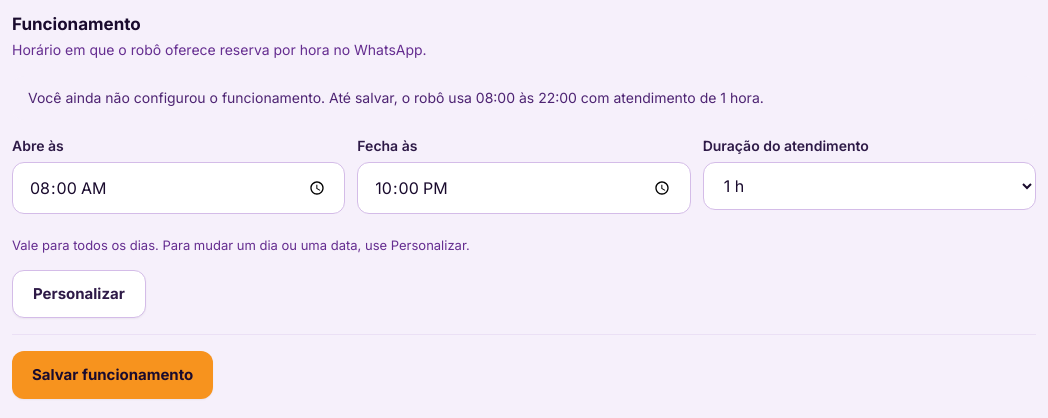
FuncionamentoComponent › com a sessao da empresa › salvar no modo simples faz PUT com o mesmo horario nos 7 dias e no feriado
Replace the text in the time field with id "func-abre" with "09:00" at (179, 188), box x1=12 y1=162 x2=345 y2=214
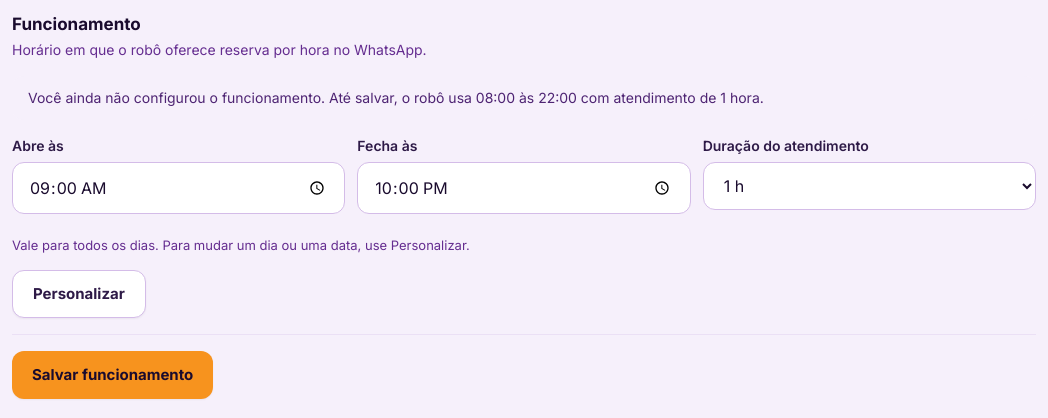
Replace the text in the time field with id "func-fecha" with "21:30" at (524, 188), box x1=357 y1=162 x2=691 y2=214
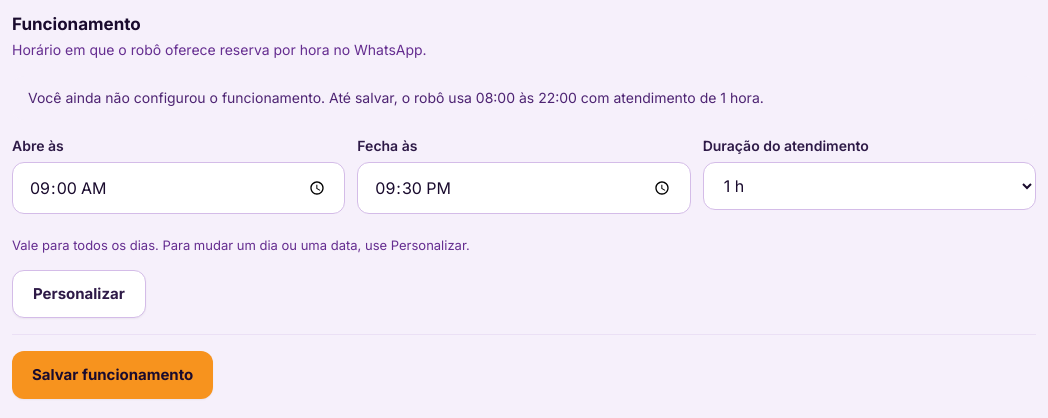
Click the button "Salvar funcionamento" at (113, 375), box x1=12 y1=351 x2=213 y2=399
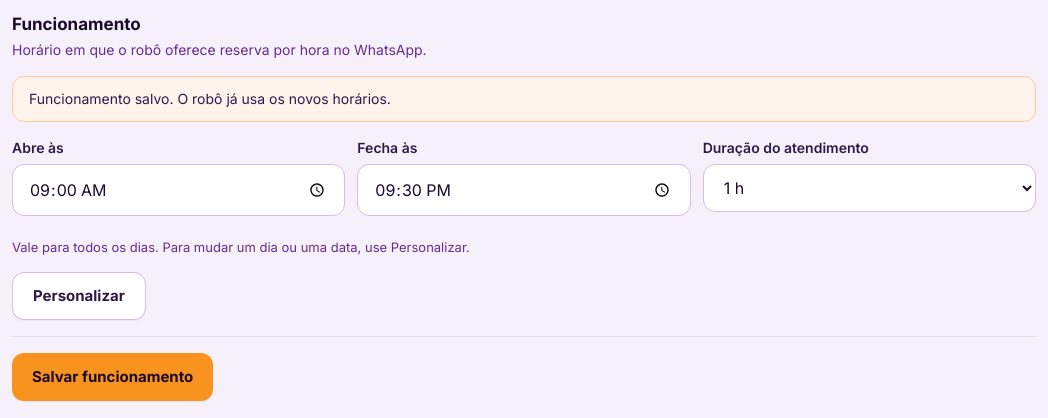
Expected: the text "Funcionamento salvo. O robô já usa os novos horários." is shown, x1=12 y1=76 x2=1036 y2=122
